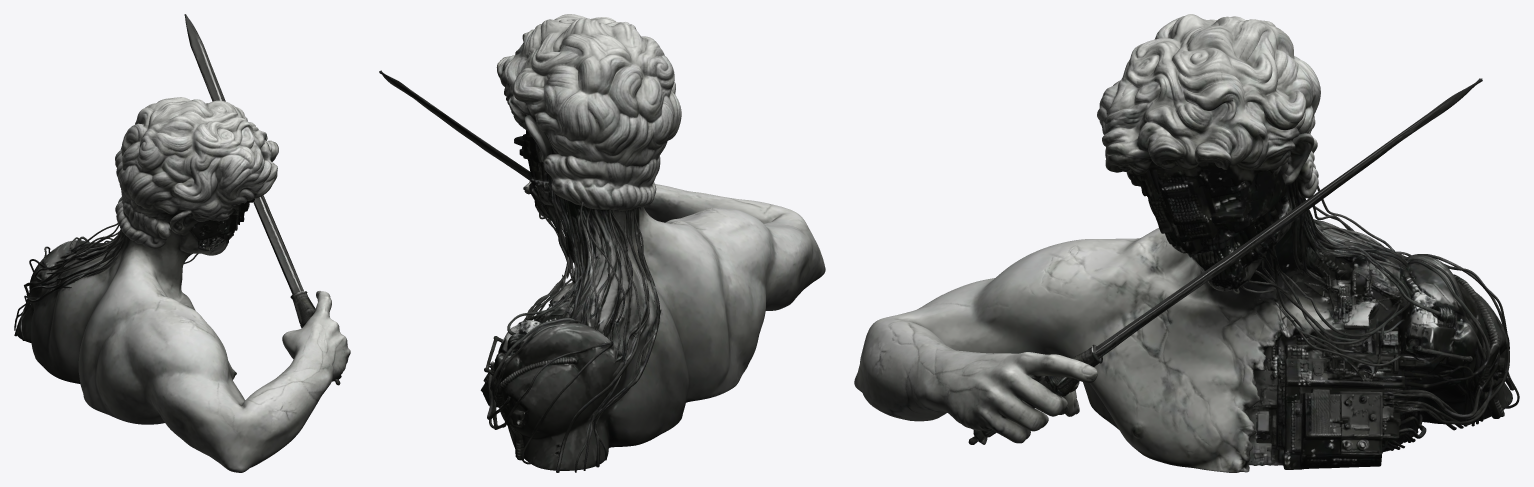
The picture shows the model from 3 angles, left to right: view 1: azimuth 30°, elevation 25°; view 2: azimuth 150°, elevation 25°; view 3: azimuth 270°, elevation 25°; orthographic projection. The views are drawn at different scales.
Visible parts, largest first — view 1: tripo_node_8b37112b-0435-400a-b8ea-ac531fc40049; view 2: tripo_node_8b37112b-0435-400a-b8ea-ac531fc40049; view 3: tripo_node_8b37112b-0435-400a-b8ea-ac531fc40049.
Boxes of the visible parts, x1,y1,x2,y2 form: tripo_node_8b37112b-0435-400a-b8ea-ac531fc40049: (14, 14, 350, 472); tripo_node_8b37112b-0435-400a-b8ea-ac531fc40049: (379, 14, 825, 472); tripo_node_8b37112b-0435-400a-b8ea-ac531fc40049: (854, 14, 1519, 472).
Bounding box in the file's own units: 0.5271 × 0.6978 × 0.9795.
Materials: 1 (1 with a texture image).
